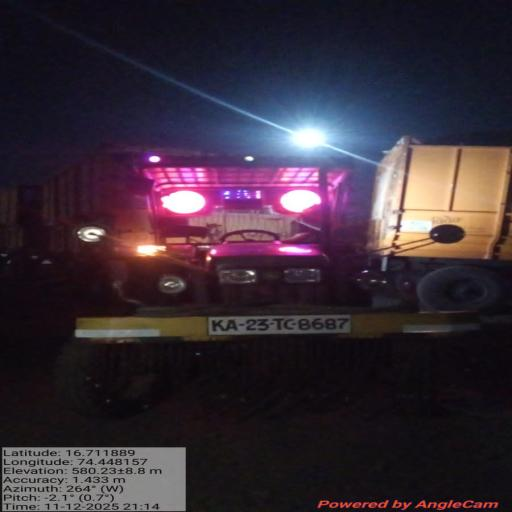number_plate: (201, 312, 358, 341)
